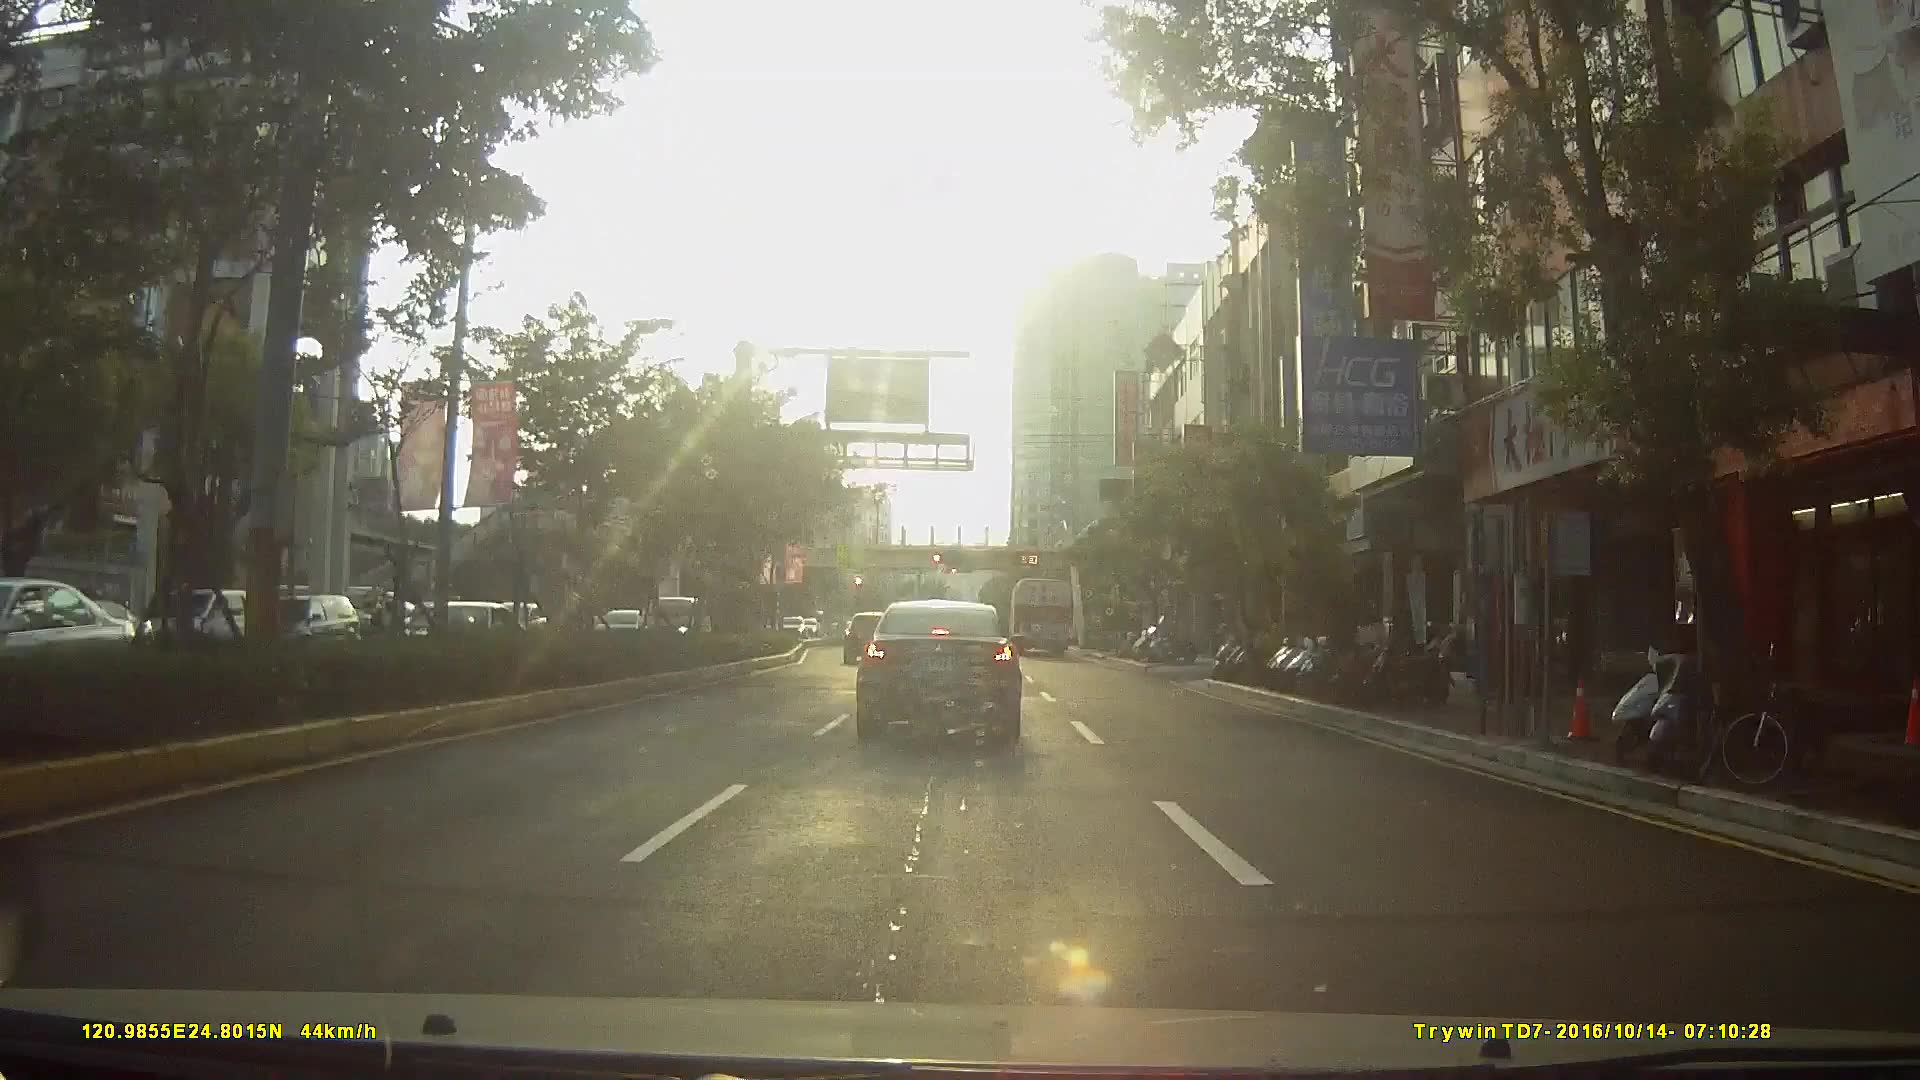vehicle: (855, 597, 1023, 744), (1, 583, 167, 695), (138, 584, 260, 655), (251, 591, 356, 654), (1007, 572, 1077, 654), (841, 608, 894, 661)
